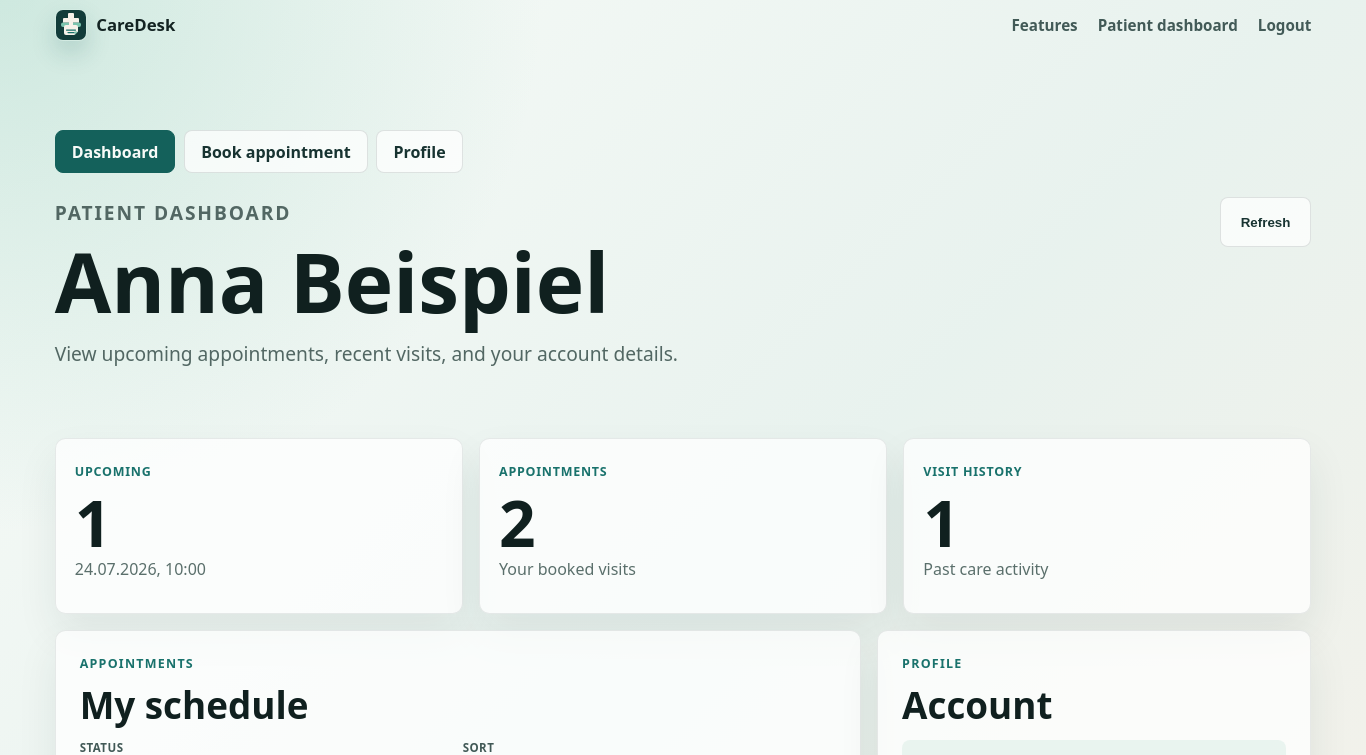
Scenario: appointment booking workflow › books an appointment: search doctor → pick slot → confirm → success on dashboard
Expected: the heading "Anna Beispiel" is shown, [55,244,678,319]
Click the button "Book appointment".
click(276, 152)  # box [184,130,368,173]
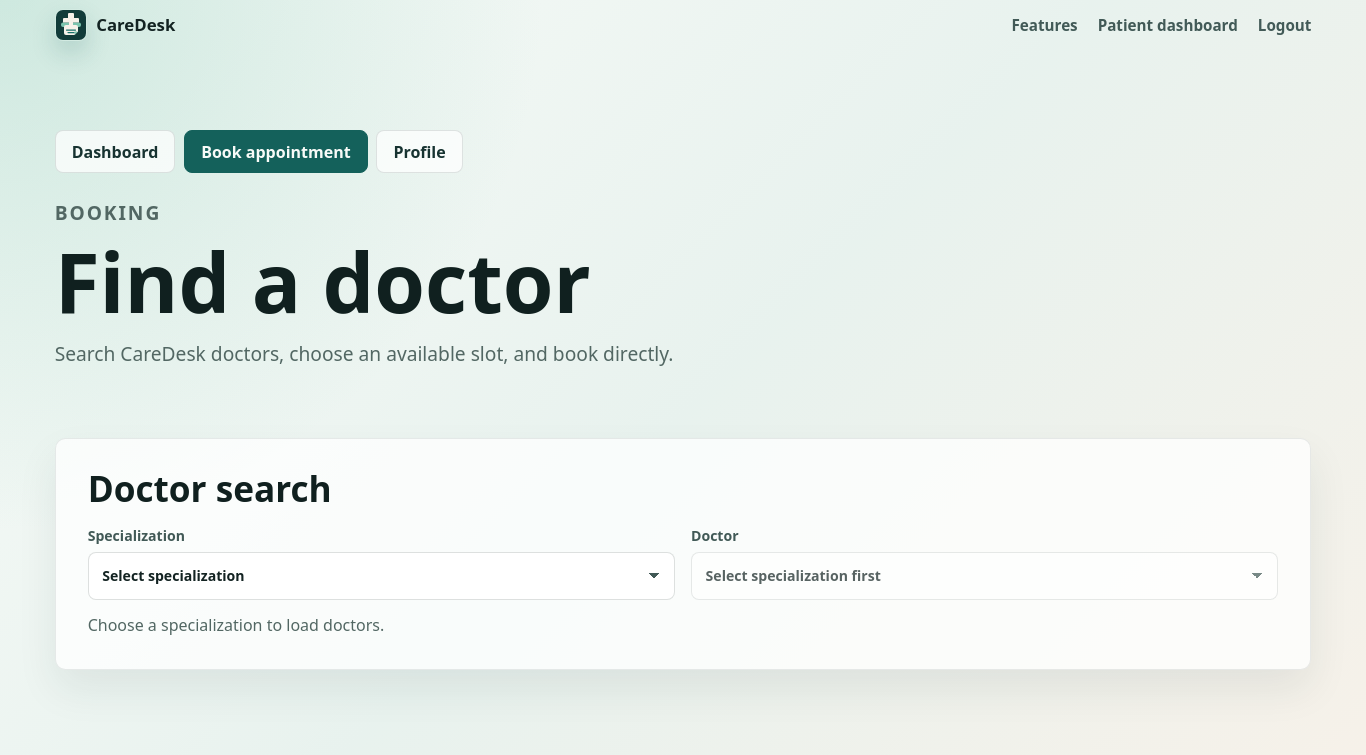
Result: the heading "Find a doctor" is shown at [55,244,674,319]
Result: the text "Choose a specialization to load doctors." is shown at [88,614,384,636]
Select "General Medicine" in the dropdown labelled "Specialization" at (381, 576), box [88,552,675,600]
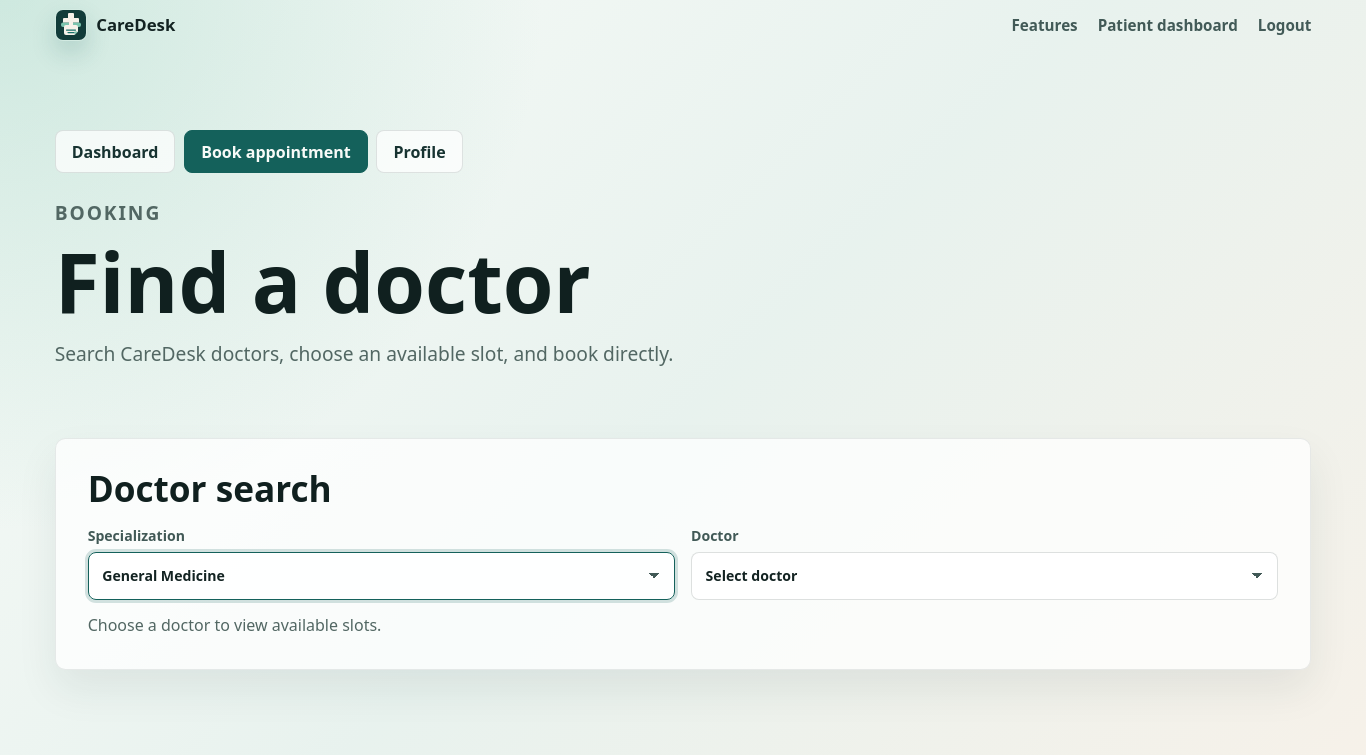
Select "Dr. Julia Weber" in the dropdown labelled "Doctor" at (985, 576), box [691,552,1278,600]
(page scrolled)
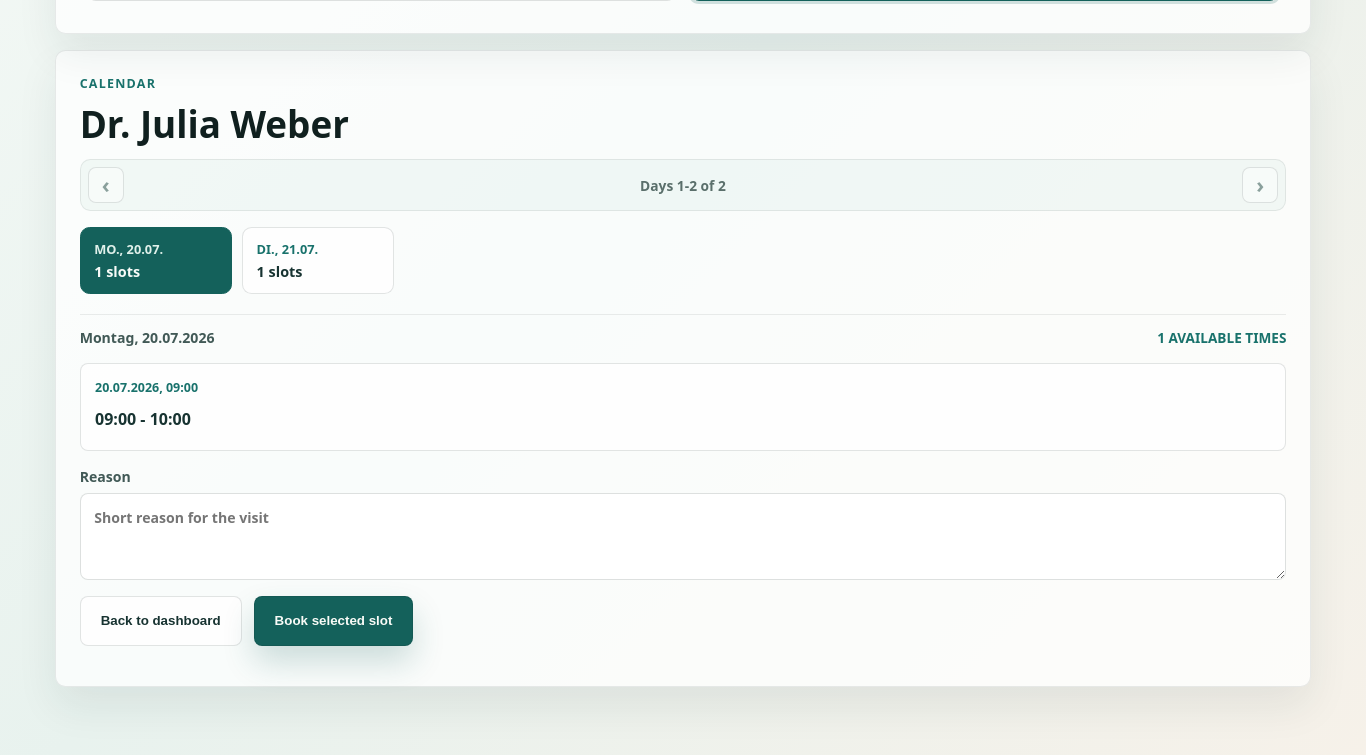
Result: the heading "Dr. Julia Weber" is shown at [80,106,349,143]
Result: the number of buttons "20.07.2026, 09:00 09:00 - 10:00" is 1
Click the button "20.07.2026, 09:00 09:00 - 10:00".
click(147, 387)  # box [80,363,1286,451]
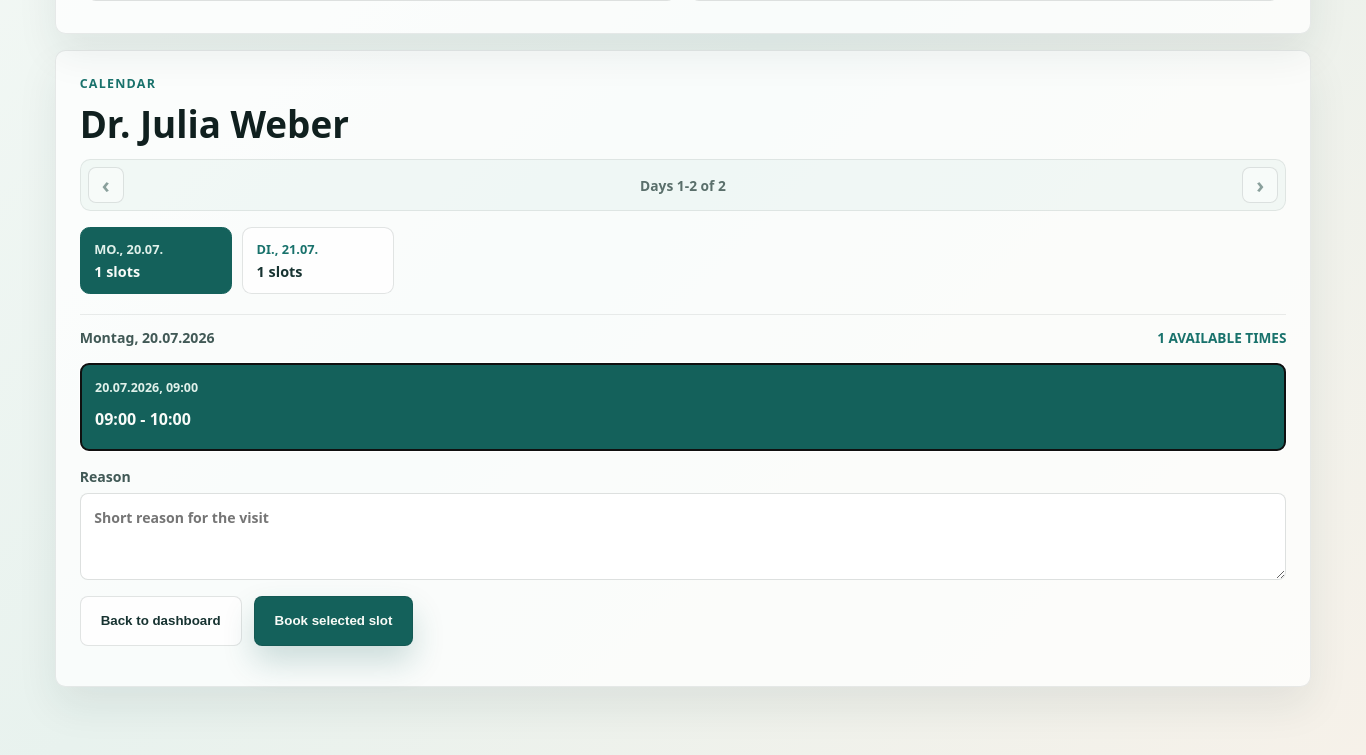
Type "Recurring headaches" into the text box labelled "Reason".
click(683, 536); type("Recurring headaches")  # box [80,493,1286,580]
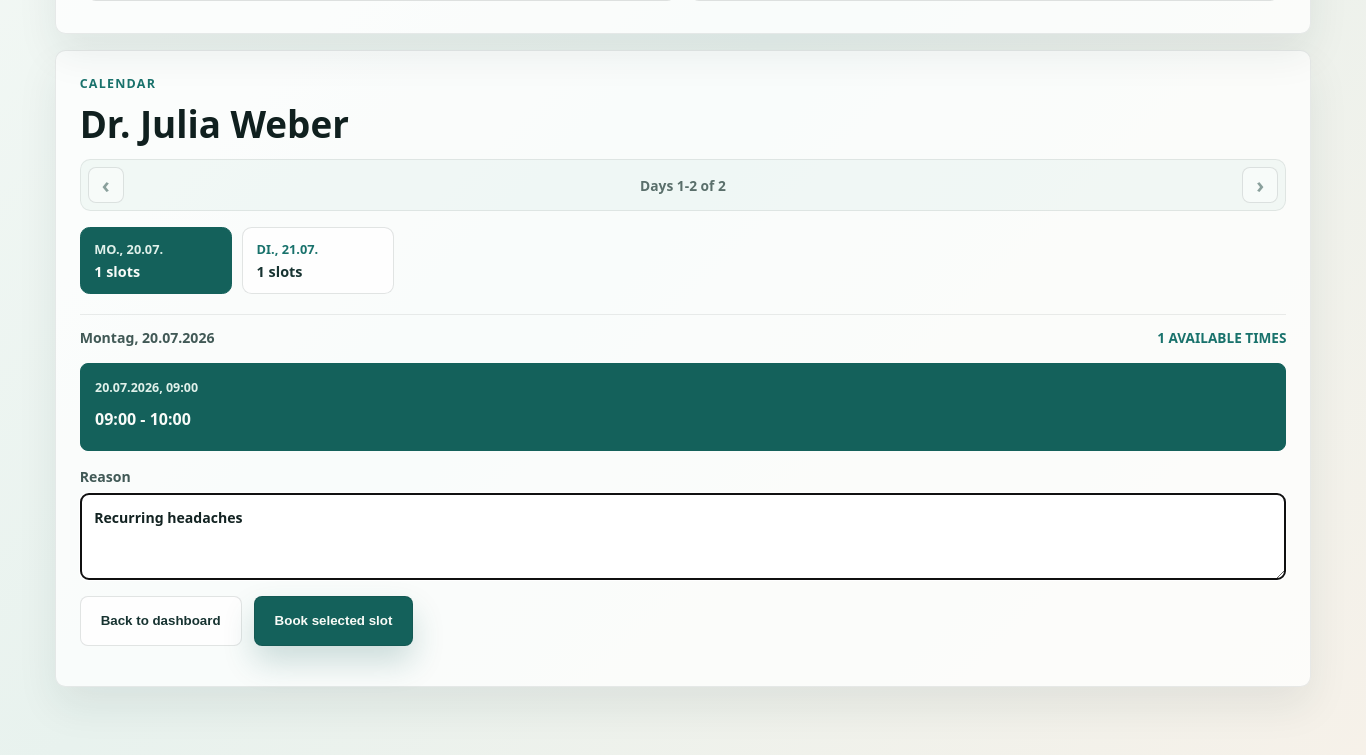
Click the button "Book selected slot".
click(334, 621)  # box [254,596,413,646]
(page scrolled)
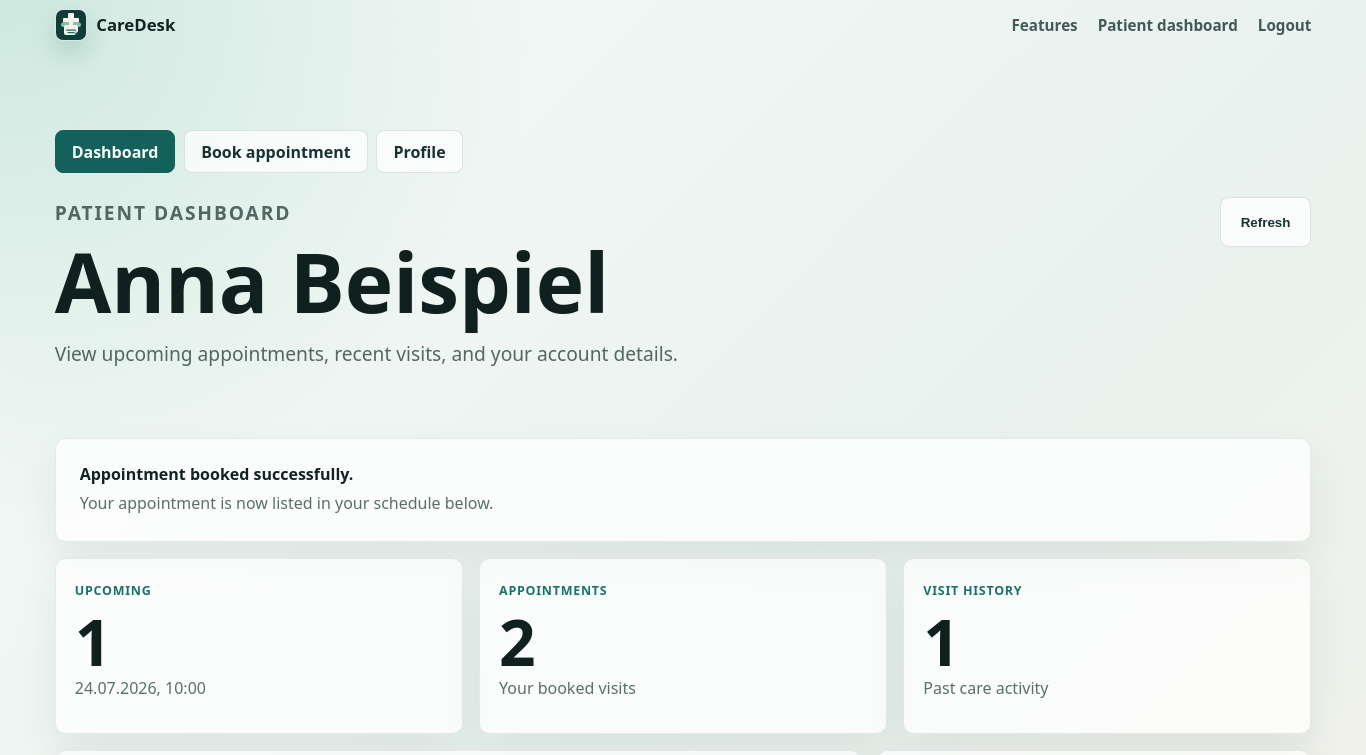
Result: the text "Appointment booked successfully." is shown at [80,463,353,485]
